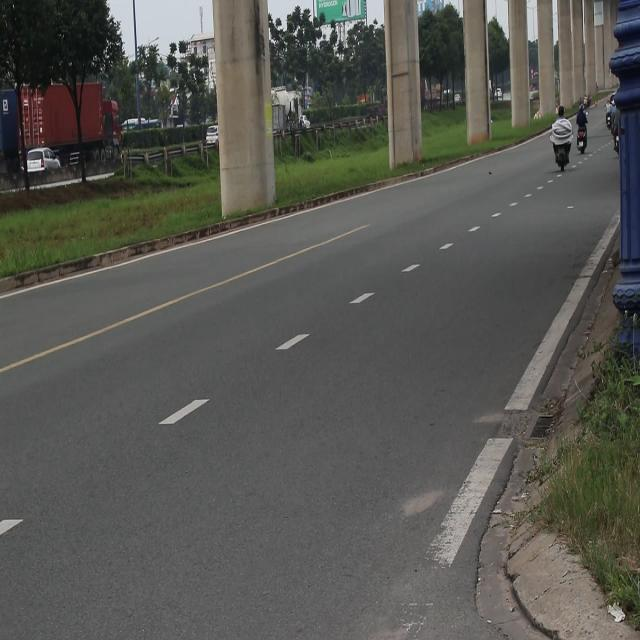car: (26, 146, 66, 188), (121, 119, 160, 133), (204, 126, 217, 150)
motorbike: (544, 134, 577, 178), (574, 127, 588, 162), (611, 131, 629, 158), (603, 113, 615, 138)
truck: (13, 76, 126, 176)
